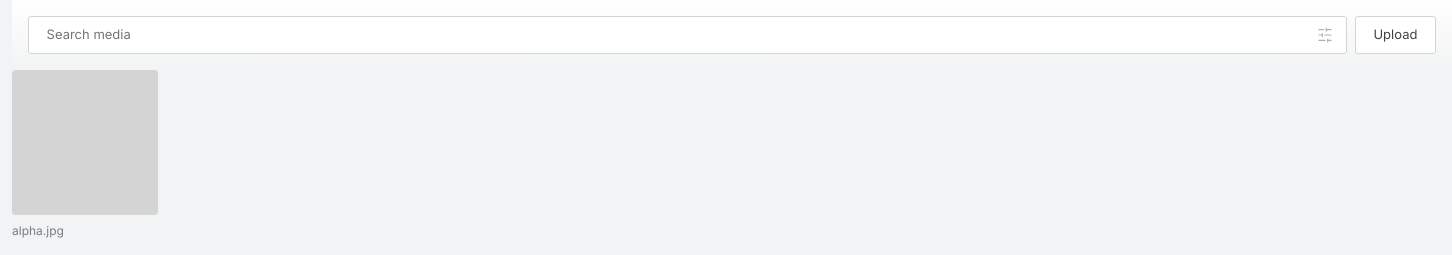
MediaLibrary video support › says which kind came up empty rather than blaming the search box
The image size is (1452, 255).
Check: the text "alpha.jpg" is shown, box [12,223,64,238]
Click the button named "Filter media by type".
click(1325, 35)  # box [1313,23,1337,47]
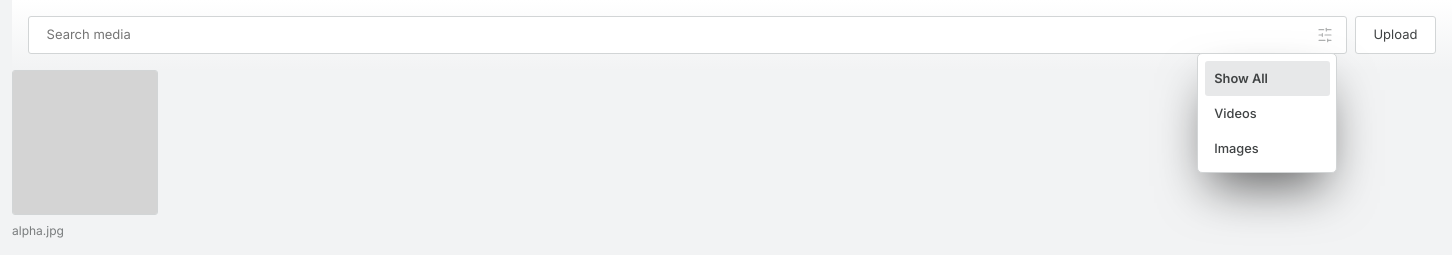
Click the menu item "Videos".
click(1267, 113)  # box [1205,96,1330,131]
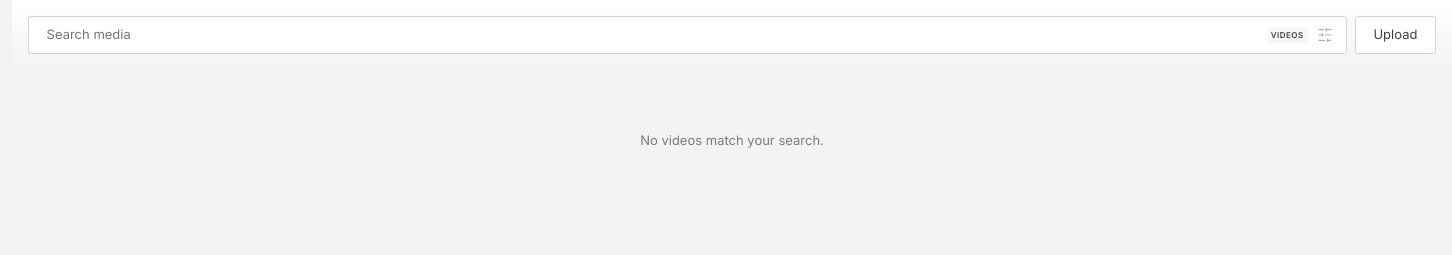
Check: the text "No videos match your search." is shown, box [640,132,824,148]
